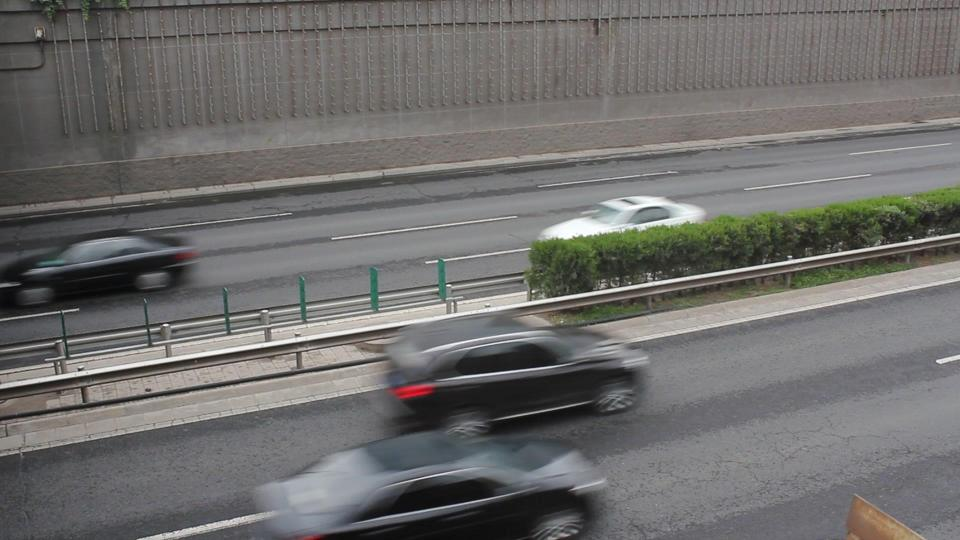Car: (264, 431, 596, 540), (389, 313, 641, 425), (536, 193, 705, 265), (27, 231, 196, 302)
